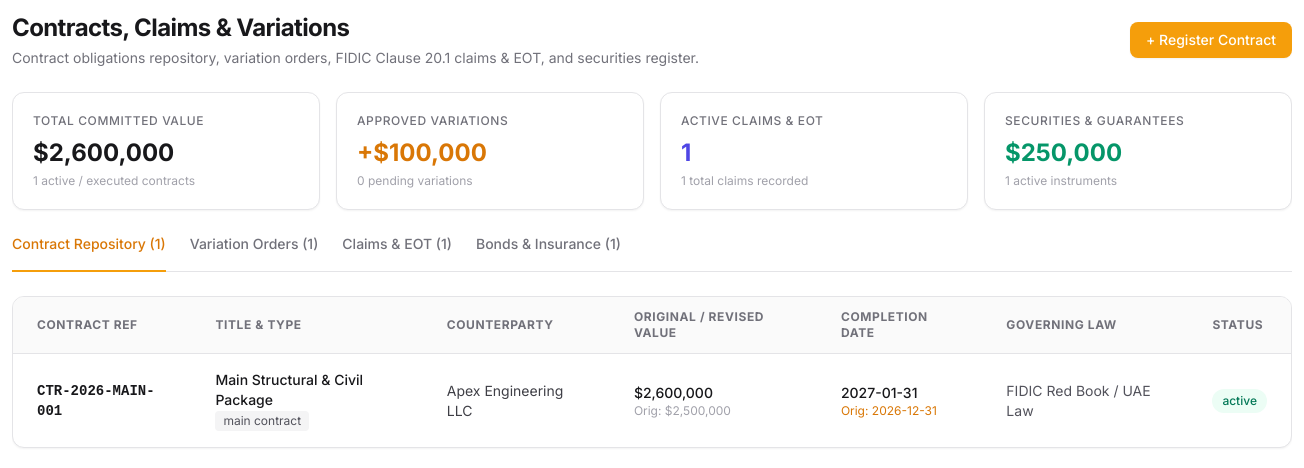
M23: Contracts, Claims & Variations Page › switches to Claims tab and displays FIDIC 28-day notice warning
What coordinates should you click on to do the following:
click the button "Claims & EOT (1)"
I would click on:
 (397, 253)
Its box is top-left (342, 234), bottom-right (452, 272).
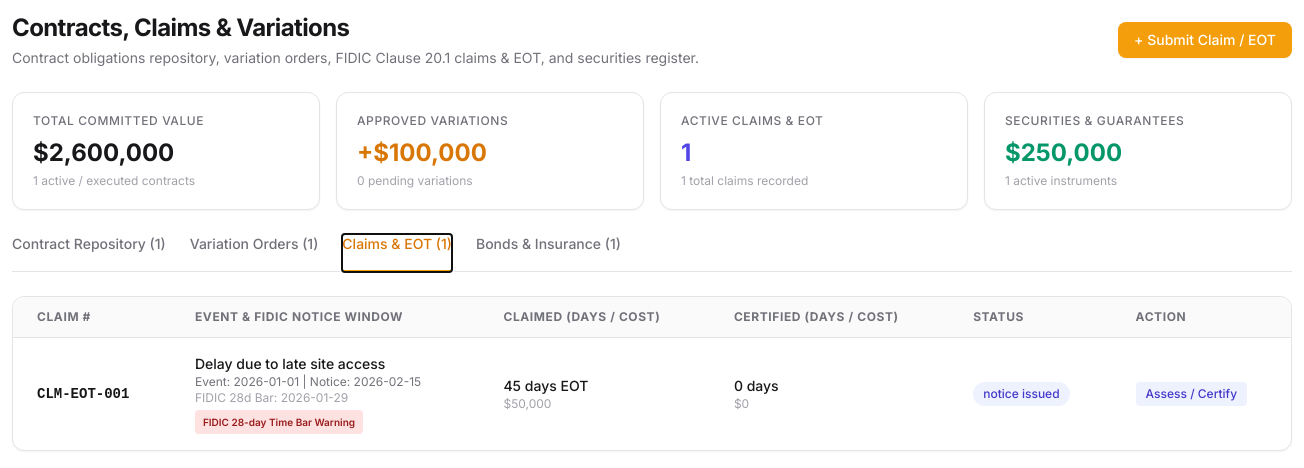
Result: the text "CLM-EOT-001" is shown at top-left (13, 338), bottom-right (171, 450)
Result: the text "Delay due to late site access" is shown at top-left (195, 355), bottom-right (385, 372)
Result: the text "FIDIC 28-day Time Bar Warning" is shown at top-left (195, 410), bottom-right (363, 434)
